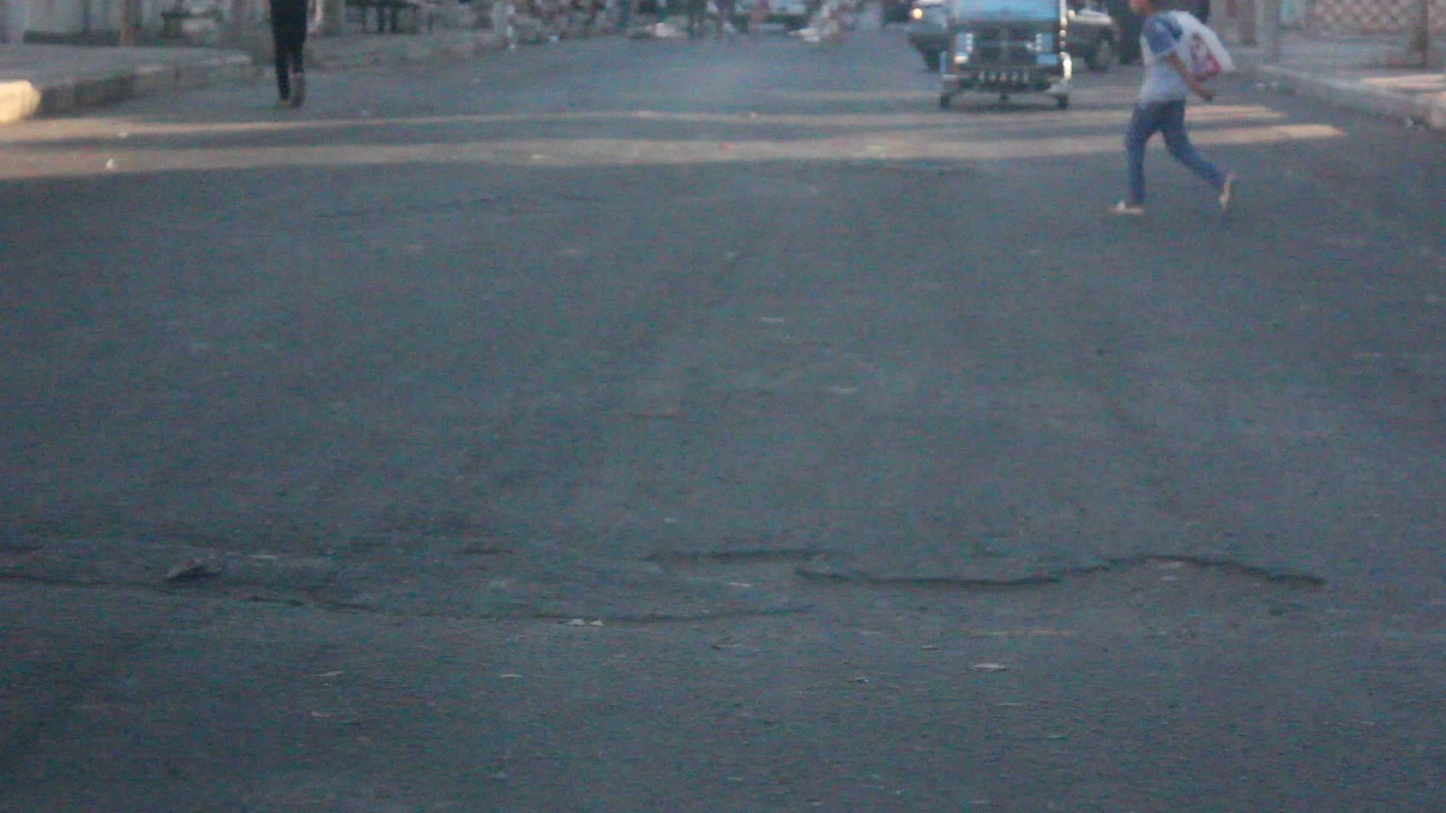Pothole: (638, 531, 1314, 655), (117, 534, 552, 647)
